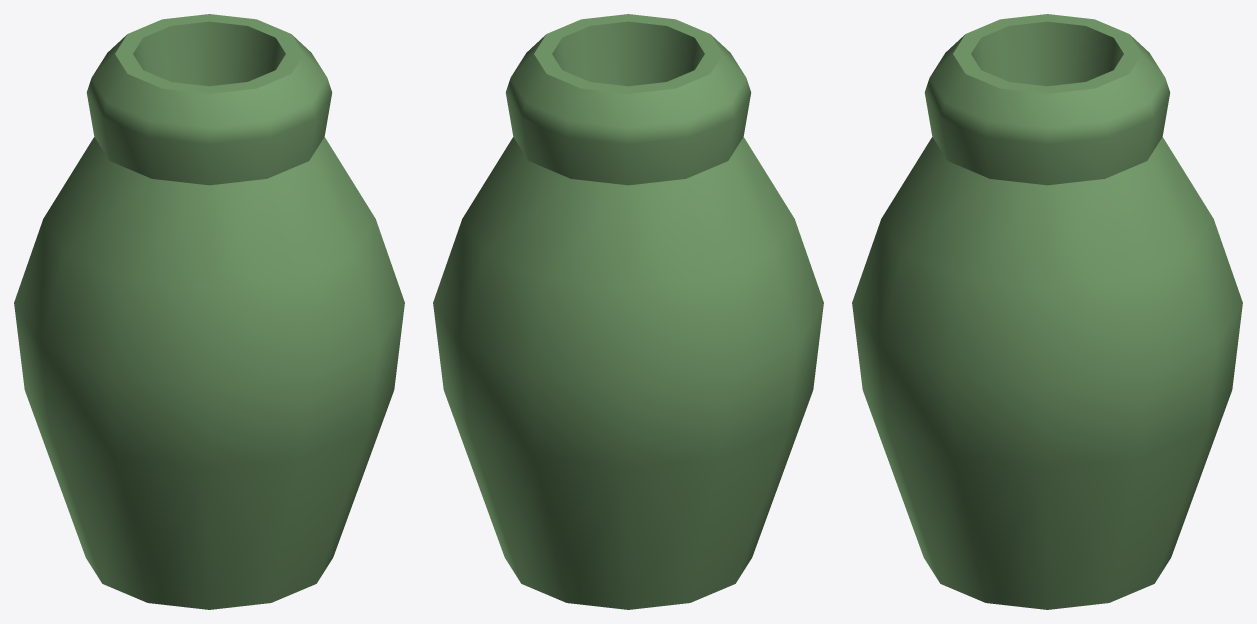
The model's file is Vaso_4.fbx.
3 views of the same model, side by side, from view 1: azimuth 30°, elevation 25°; view 2: azimuth 150°, elevation 25°; view 3: azimuth 270°, elevation 25° (orthographic).
Visible parts, largest first — view 1: Vaso_4; view 2: Vaso_4; view 3: Vaso_4.
Part boxes in pixels (x1,y1,x2,y2): Vaso_4: [14, 14, 404, 609]; Vaso_4: [433, 14, 823, 609]; Vaso_4: [852, 14, 1242, 609].
Bounding box in the file's own units: 0.3549 × 0.5045 × 0.3549.
